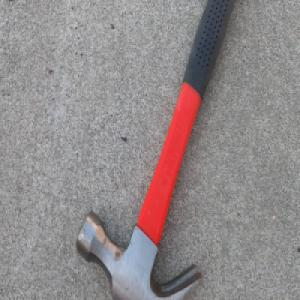Hammer: (74, 0, 237, 300)
